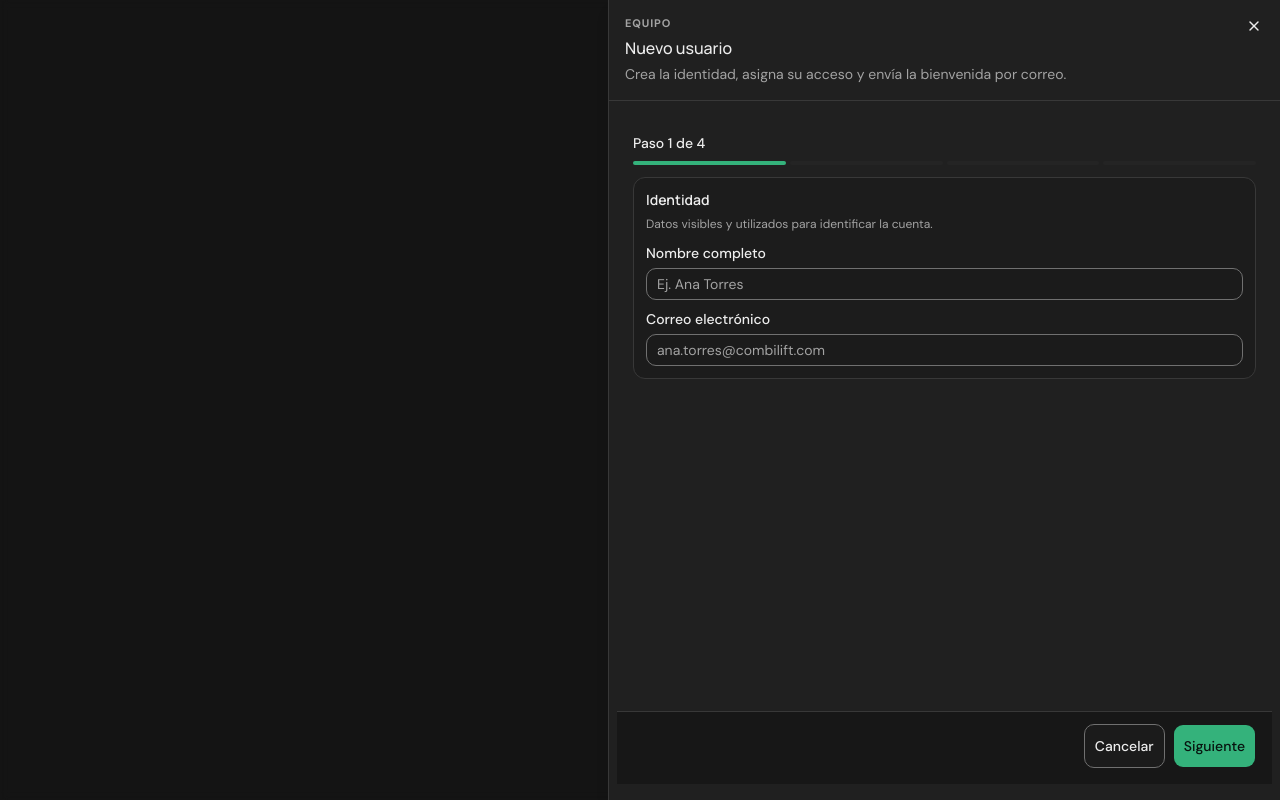
Test: ManagedUserSheet › does not create a user when a native submit happens before confirmation
Expected: the form named "Siguiente" is shown, [609, 117, 1279, 799]
Type "Ana Torres" into the field labelled "Nombre completo" at [944, 284], box [646, 268, 1243, 300]
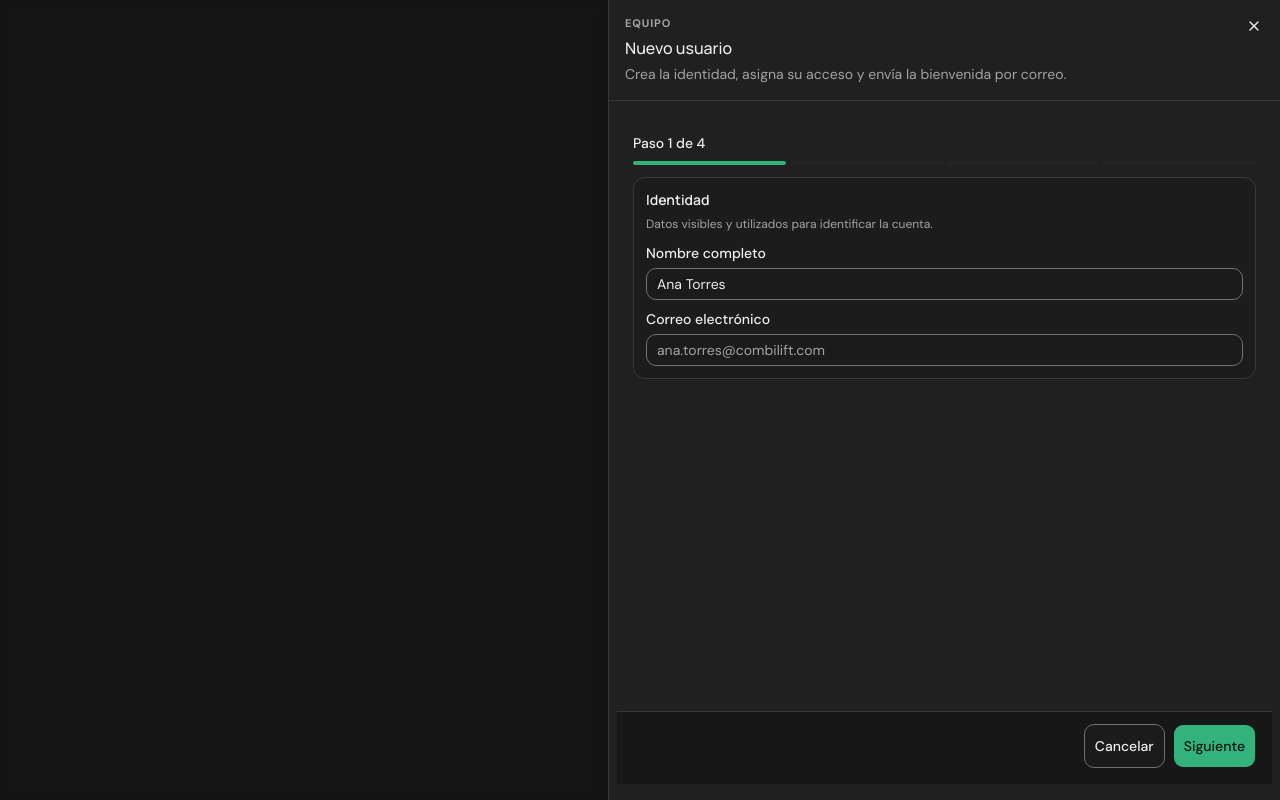
Type "ana@example.com" into the field labelled "Correo electrónico" at [944, 350], box [646, 334, 1243, 366]
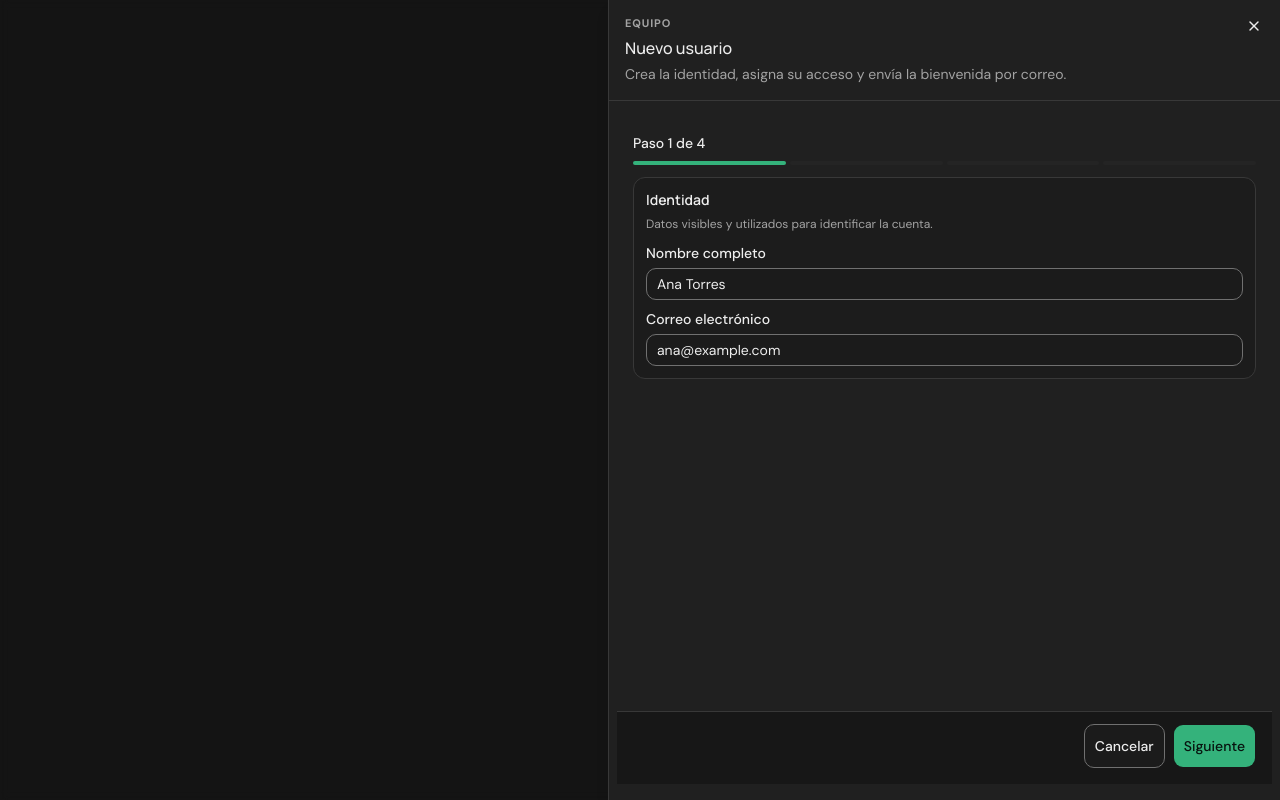
Submit the form named "Siguiente", box [609, 117, 1279, 799]
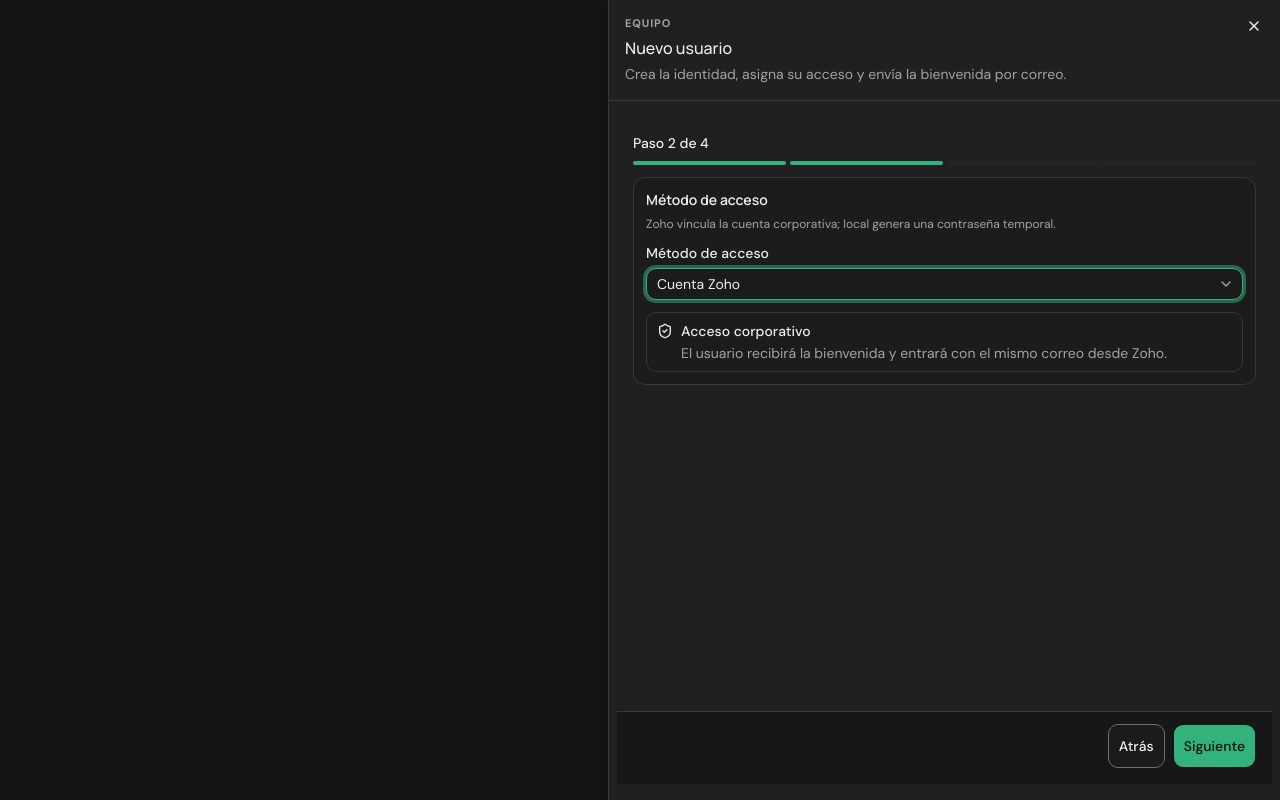
Now the text "Paso 2 de 4" is shown, box [633, 134, 709, 152]
